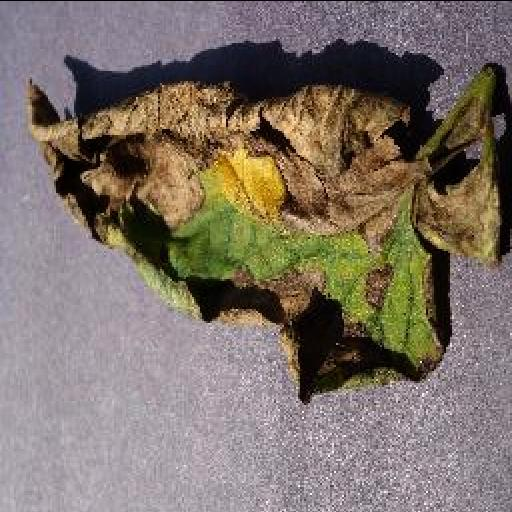disease_tomato: (22, 78, 504, 406)
